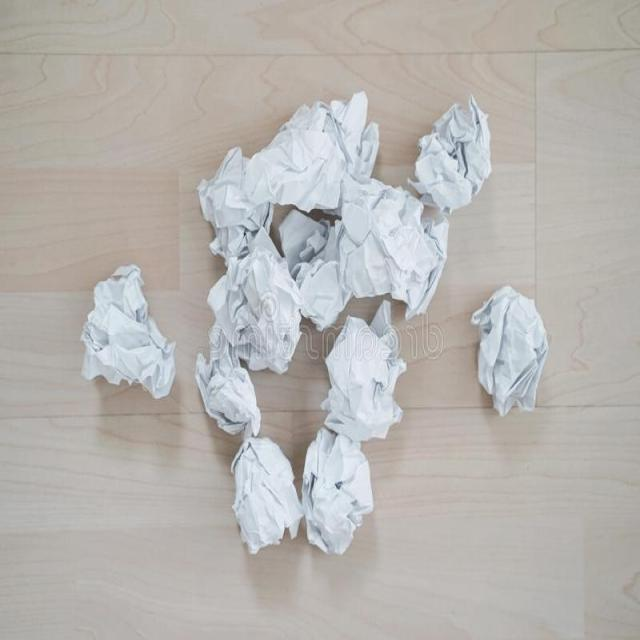paper: (66, 250, 181, 462), (226, 68, 376, 228), (334, 175, 448, 327), (459, 282, 562, 444), (282, 420, 378, 591), (200, 245, 311, 380), (408, 74, 504, 223), (313, 299, 410, 444), (284, 193, 355, 358), (189, 139, 271, 261), (216, 440, 302, 551), (180, 330, 268, 438)
